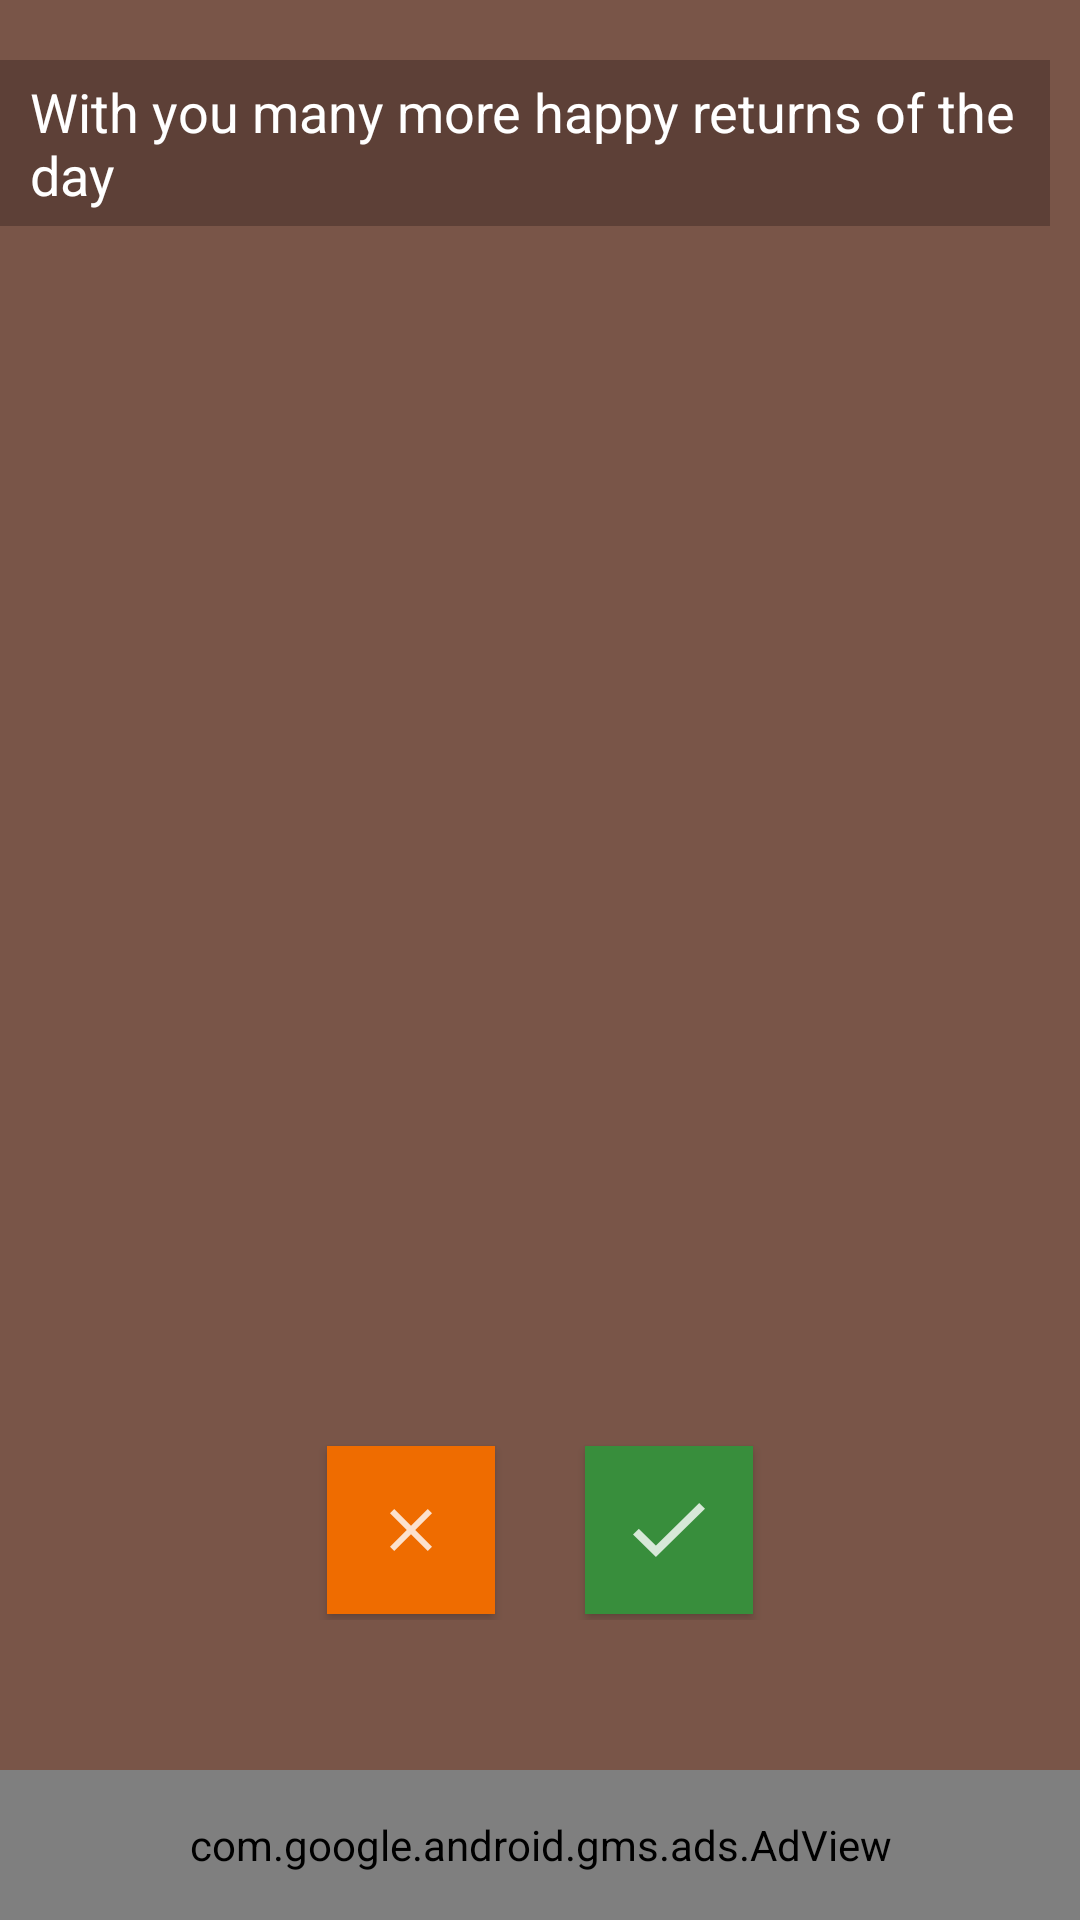

Where to tap for icons on this 1080×1920 app screen, as (x,y):
cancel: (411,1530)
done: (669,1530)
